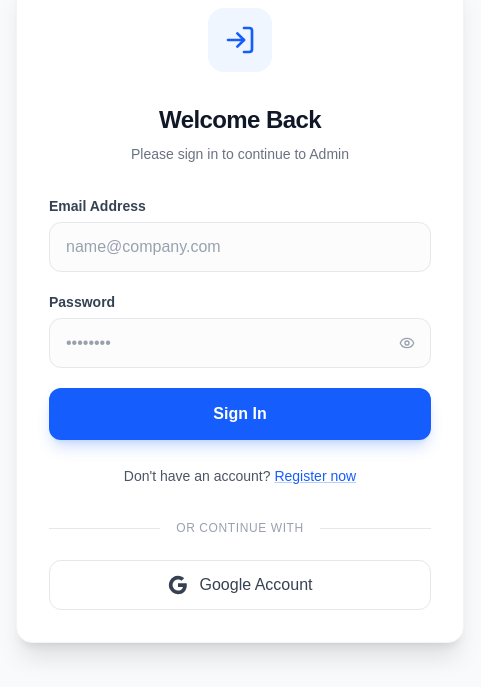
Test: AdminLoginContent › shows validation error for short password
In the password field with placeholder "••••••••": [240, 343] box [49,318,431,368], type "123"
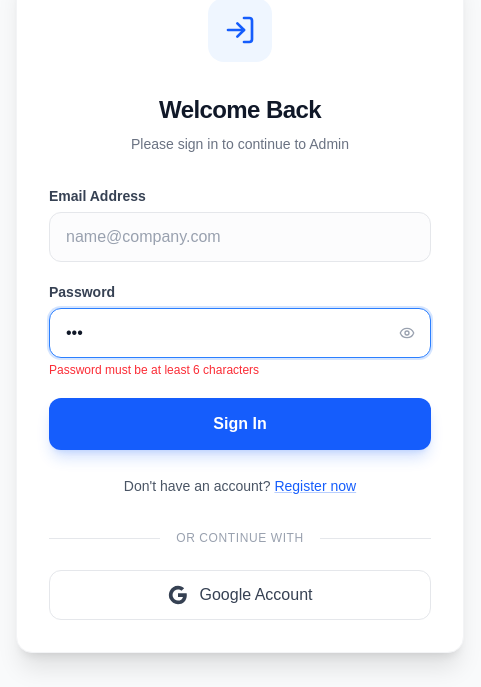
Expected: the text "Password must be at least 6 characters" is shown, [49,363,259,377]
